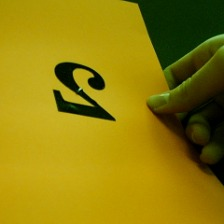orange2: (46, 57, 121, 128)
